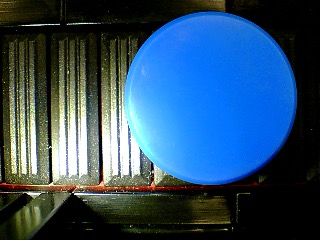BLANK: (123, 11, 298, 185)
